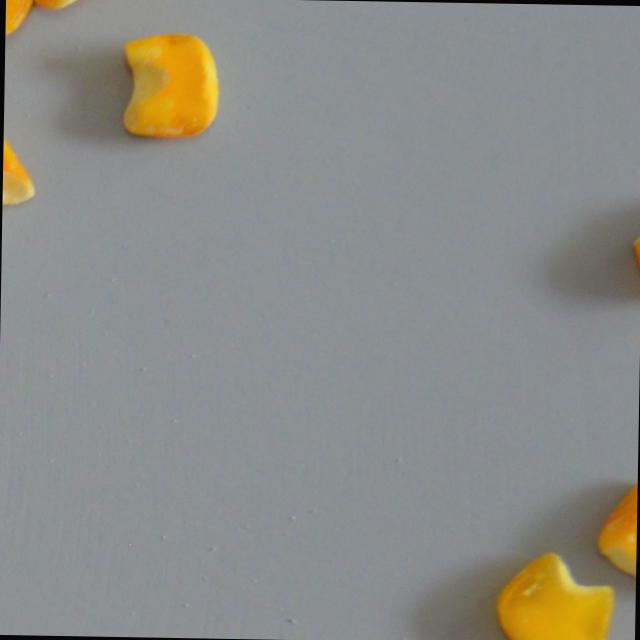no_canjicado: (5, 0, 36, 37)
pelicula: (492, 548, 615, 640), (119, 31, 220, 140), (1, 115, 35, 239), (5, 0, 105, 11)
